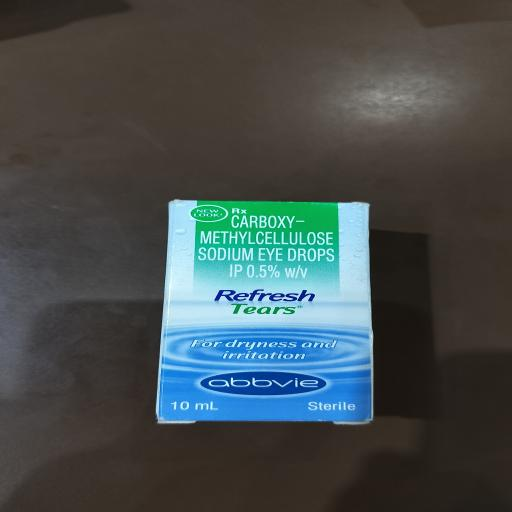eye-drops: (187, 204, 349, 284)
medicine: (162, 198, 374, 422)
